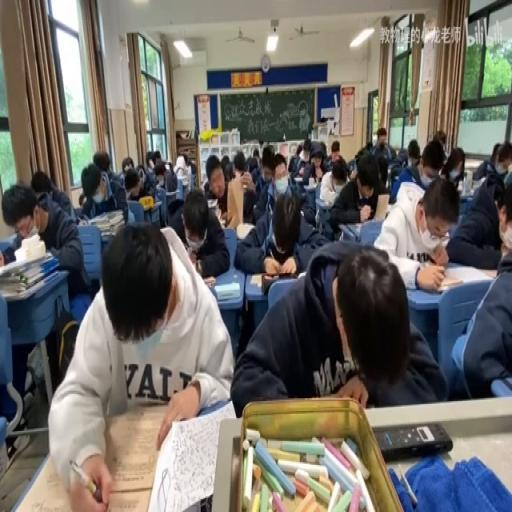calculator: (0, 270, 57, 299), (314, 196, 340, 238), (127, 195, 165, 222), (416, 273, 466, 292), (14, 230, 45, 260), (357, 219, 382, 246), (248, 269, 283, 287), (370, 192, 390, 222), (214, 282, 240, 300), (302, 181, 318, 209), (340, 222, 358, 242), (235, 222, 255, 237), (469, 175, 485, 192), (482, 266, 498, 277), (330, 186, 343, 196), (206, 196, 217, 206), (180, 175, 190, 186), (77, 216, 89, 225), (150, 198, 162, 206), (308, 176, 316, 188), (292, 176, 302, 184)
paper: (50, 222, 232, 512), (232, 240, 440, 417), (375, 170, 458, 288), (456, 253, 511, 401), (445, 161, 507, 269), (169, 183, 232, 279), (326, 152, 384, 236), (78, 159, 126, 228), (32, 168, 75, 220), (227, 151, 259, 219), (298, 141, 330, 188), (419, 139, 445, 185), (123, 166, 146, 202), (370, 126, 392, 160), (484, 171, 506, 202), (386, 158, 402, 200), (260, 144, 276, 184), (496, 205, 510, 246), (152, 159, 168, 189), (274, 152, 288, 185), (93, 150, 110, 174), (375, 155, 388, 185), (406, 138, 420, 164), (0, 243, 17, 263), (332, 164, 346, 188), (496, 154, 510, 174), (352, 146, 366, 165), (330, 140, 341, 164), (186, 158, 197, 180), (396, 146, 408, 165), (434, 128, 446, 146), (288, 152, 298, 172), (122, 155, 134, 171), (490, 141, 501, 158), (455, 164, 465, 180), (146, 151, 155, 168), (248, 168, 258, 183), (294, 142, 302, 158), (220, 155, 229, 169), (251, 145, 260, 158), (77, 192, 85, 206), (349, 165, 356, 181), (320, 141, 326, 159), (165, 160, 173, 170), (138, 163, 144, 175), (365, 141, 372, 151)
person: (374, 422, 451, 461), (202, 276, 214, 286)
